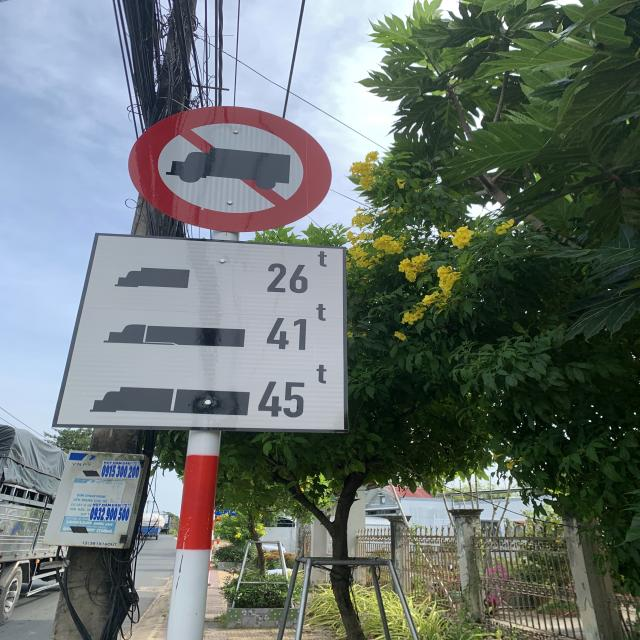Cam_Xe_Tai: (130, 104, 332, 230)
